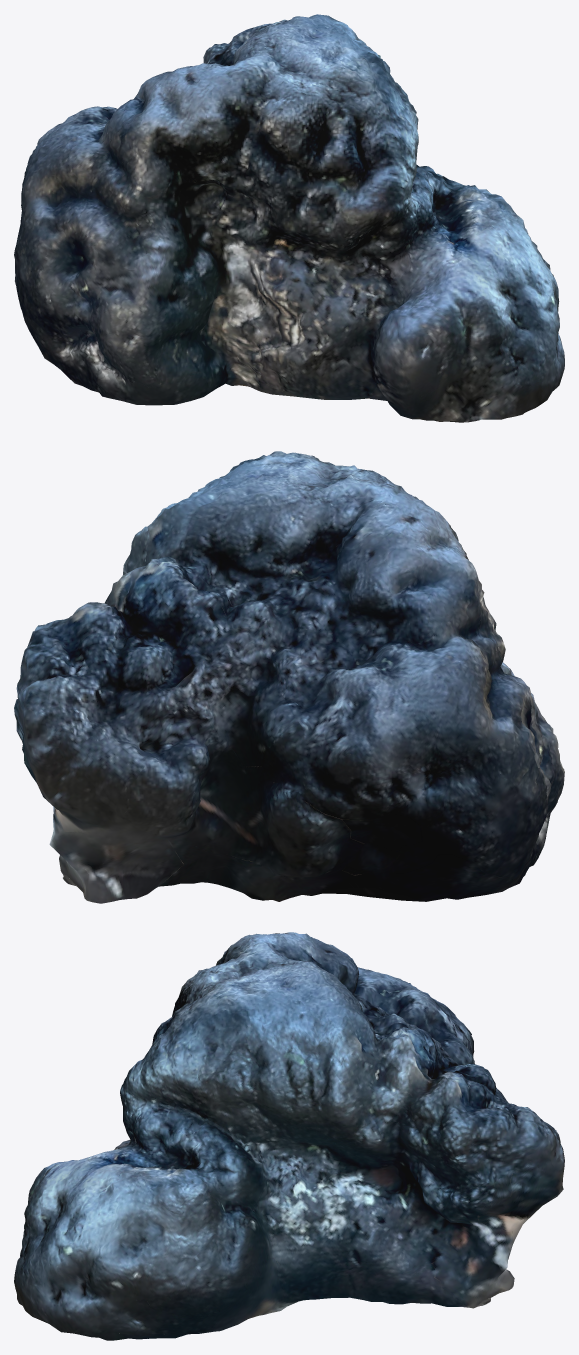
File: daldinia_concentrica.glb
The picture shows the model from 3 angles, top to bottom: view 1: azimuth 30°, elevation 25°; view 2: azimuth 150°, elevation 25°; view 3: azimuth 270°, elevation 25°; orthographic projection. The views are drawn at different scales.
Parts seen in each view (by area): view 1: Object_4; view 2: Object_4; view 3: Object_4.
Boxes of the visible parts, x1=… form: Object_4: x1=14, y1=14, x2=564, y2=422; Object_4: x1=14, y1=451, x2=564, y2=903; Object_4: x1=14, y1=932, x2=564, y2=1340.
Bounding box in the file's own units: 0.0627 × 0.0418 × 0.0716.
1 material, 1 textured.
